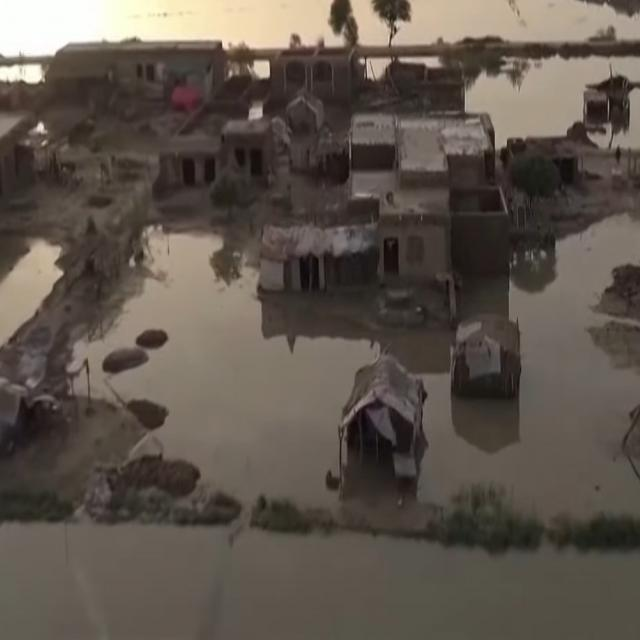flood: (88, 227, 447, 514), (0, 522, 640, 640), (415, 214, 640, 522), (0, 0, 343, 54), (467, 58, 640, 148), (395, 0, 640, 42), (0, 238, 62, 346), (352, 0, 386, 44), (615, 89, 640, 148), (0, 64, 43, 82), (369, 57, 391, 78), (399, 56, 443, 66)
house: (269, 201, 387, 306), (344, 356, 426, 470), (278, 54, 352, 180), (117, 38, 225, 98), (458, 316, 518, 401), (222, 120, 274, 177), (164, 136, 217, 183), (582, 84, 612, 148)
